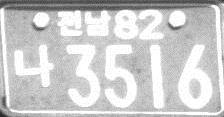1: (148, 42, 166, 110)
2: (137, 8, 165, 41)
3: (64, 42, 101, 108)
5: (103, 42, 138, 109)
6: (176, 41, 214, 109)
8: (112, 8, 139, 40)
나: (12, 42, 55, 88)
전남_O: (56, 8, 112, 38)
